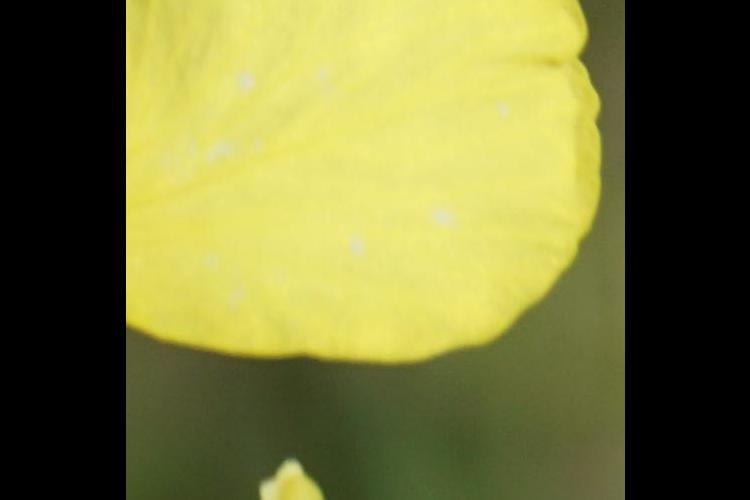yellow: (131, 1, 584, 352)
